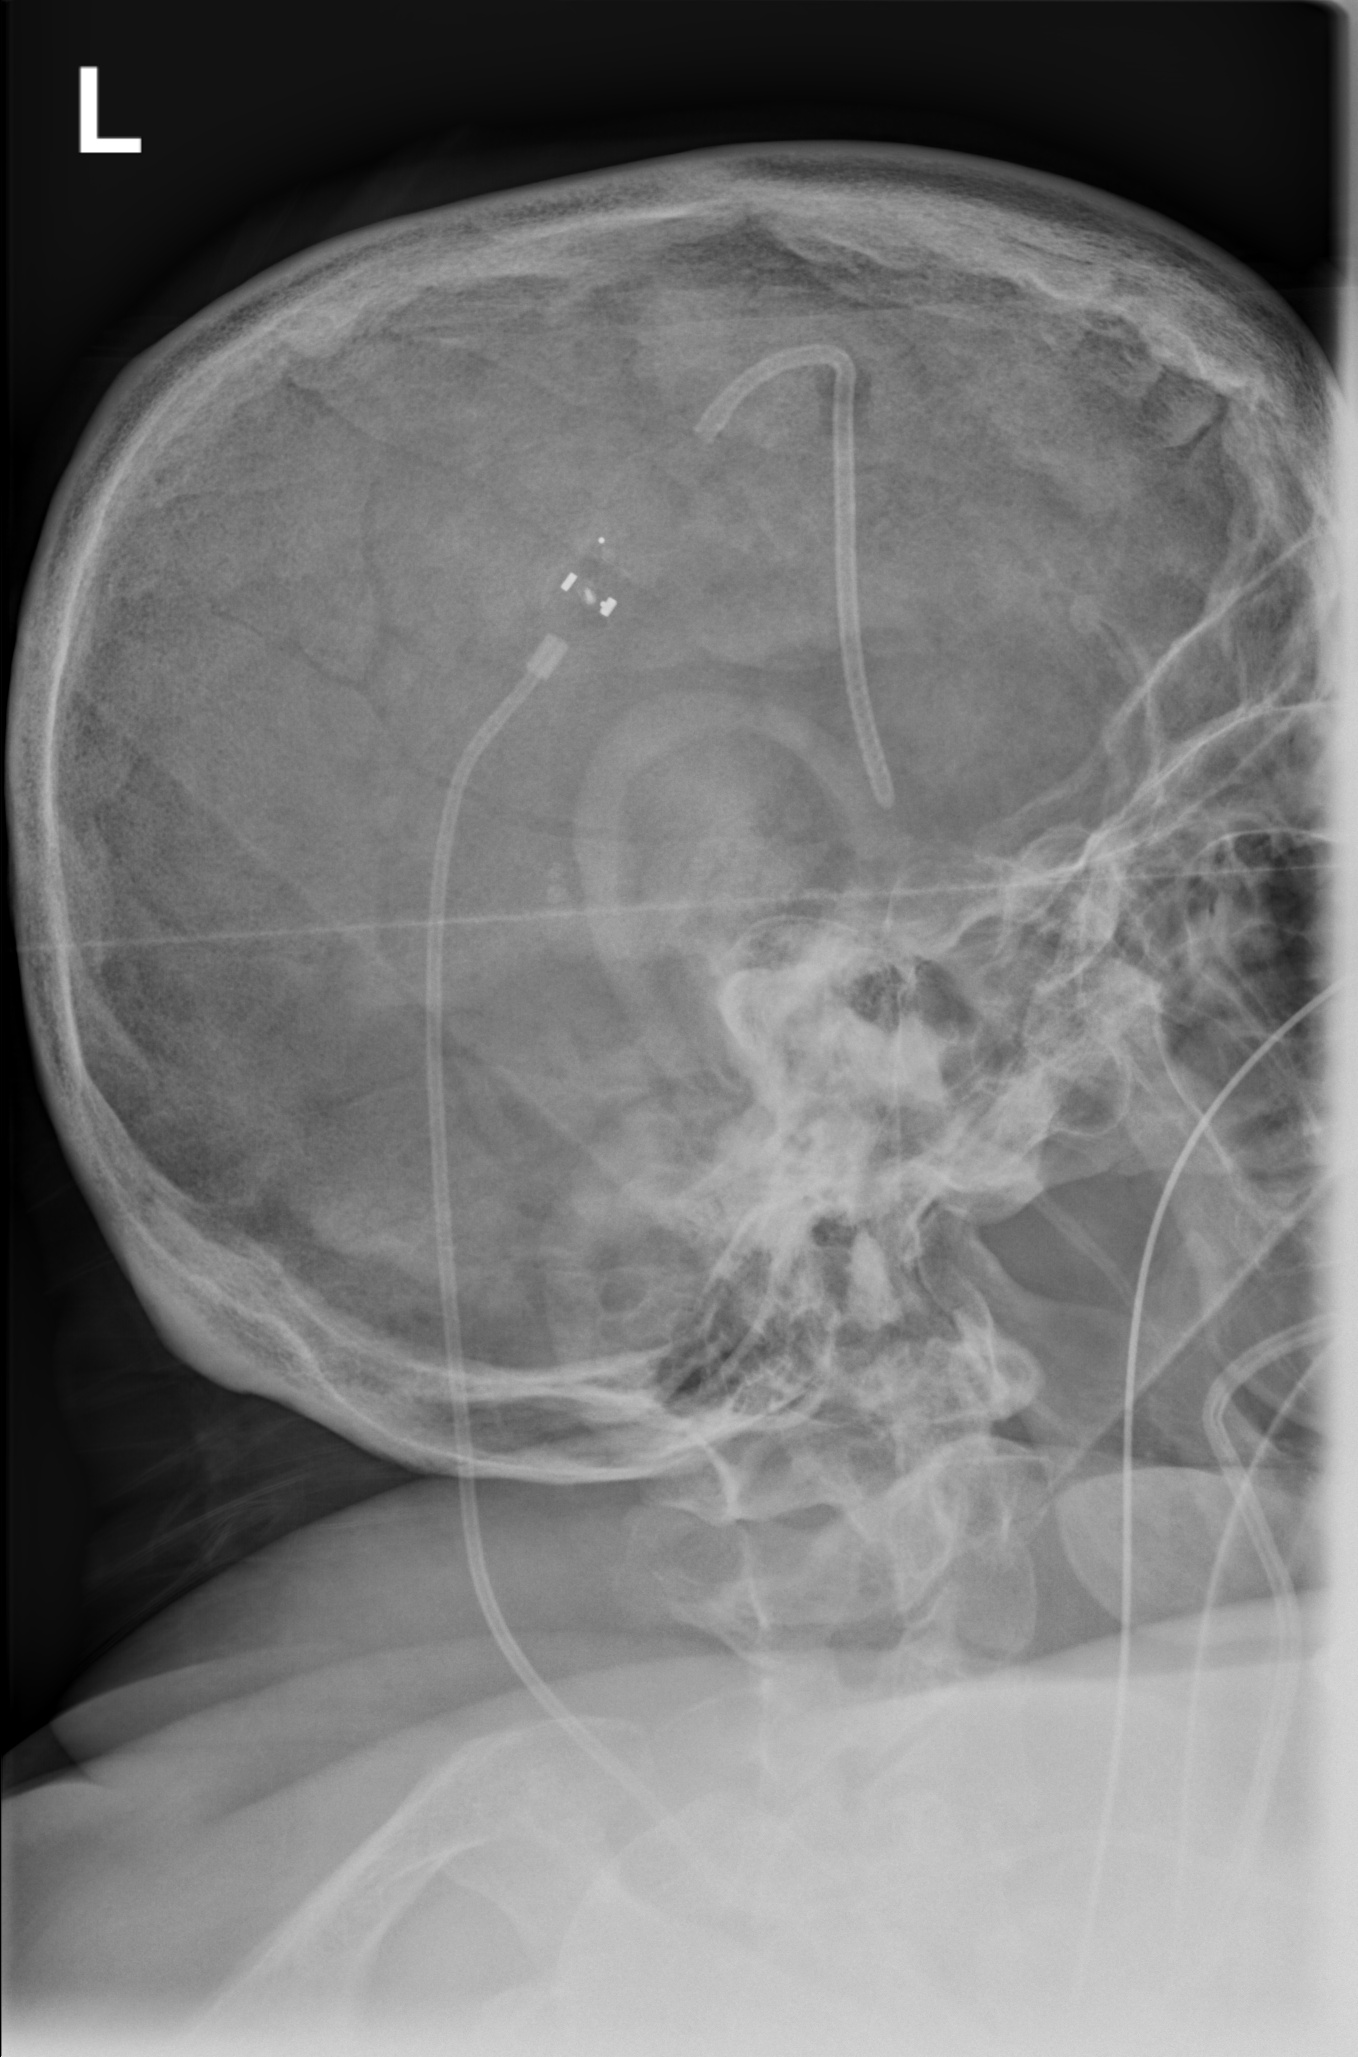Codman Certas: (530, 515, 640, 640)
